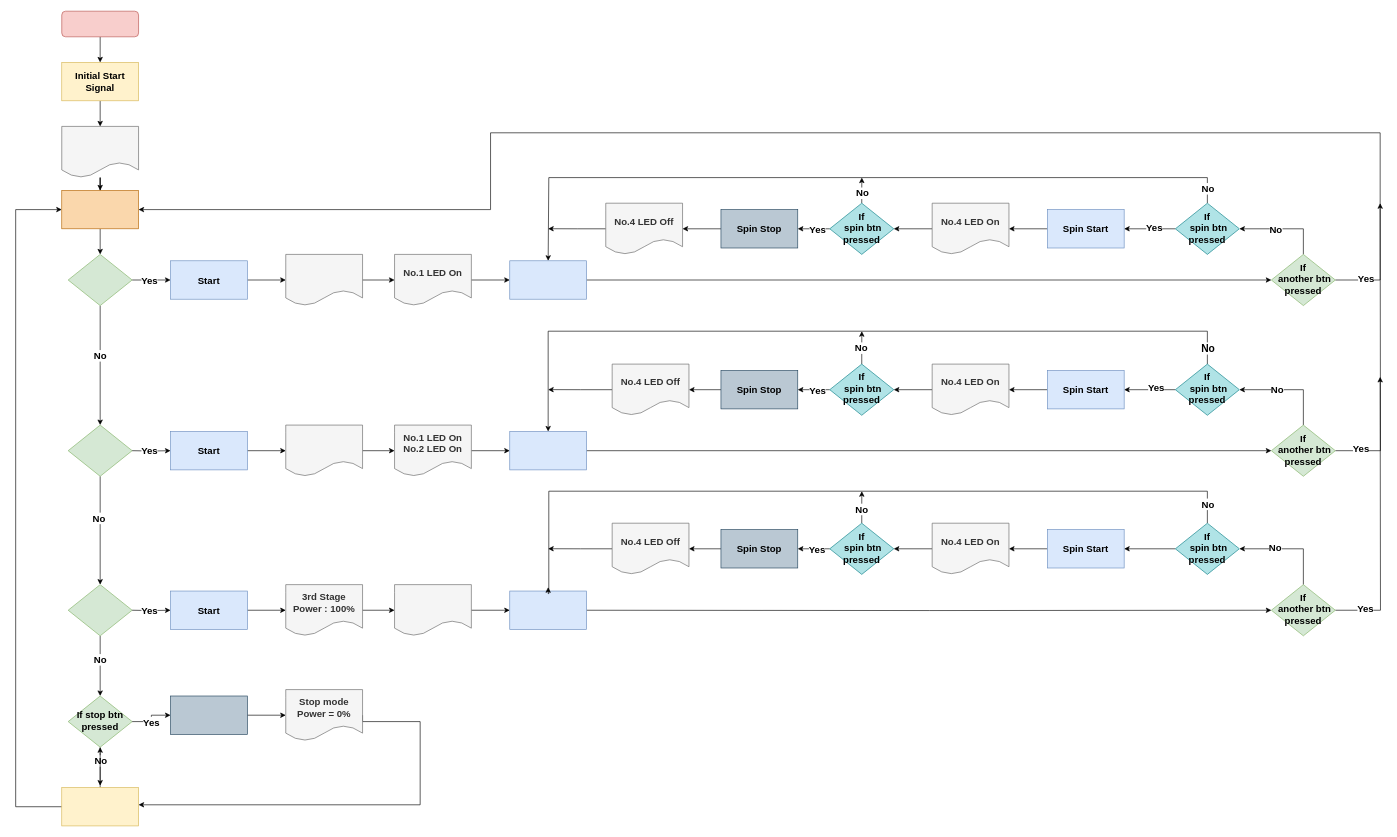
Image size: 1397x837. Some labels were removed from this diagram. The shapes that lost their labels are listed below. From the top down, each one's centre as x and y in pixels, then its label:
the point at 100,24: Power On
the point at 100,152: Hello Modesty! Please press btn
the point at 100,209: Stage Select
the point at 100,280: If 1st btn pressed
the point at 324,280: 1st Stage Power : 25%
the point at 548,279: 25% Run
the point at 100,450: If 2nd btn pressed
the point at 324,450: 2nd Stage Power : 50%
the point at 548,450: 50% Run
the point at 100,610: If 3rd btn pressed
the point at 432,610: No.1 LED On No.2 LED On No.3 LED On
the point at 548,609: 100% Run
the point at 208,714: Motor Stop Spin Stop
the point at 100,806: Waiting Command
